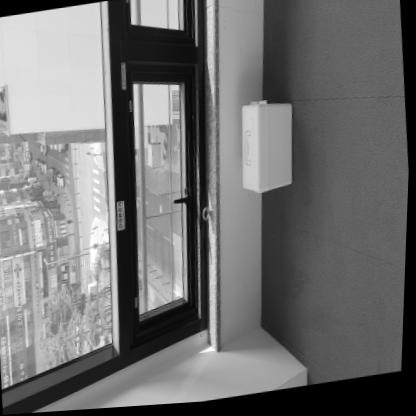DDL: (238, 102, 300, 197)
